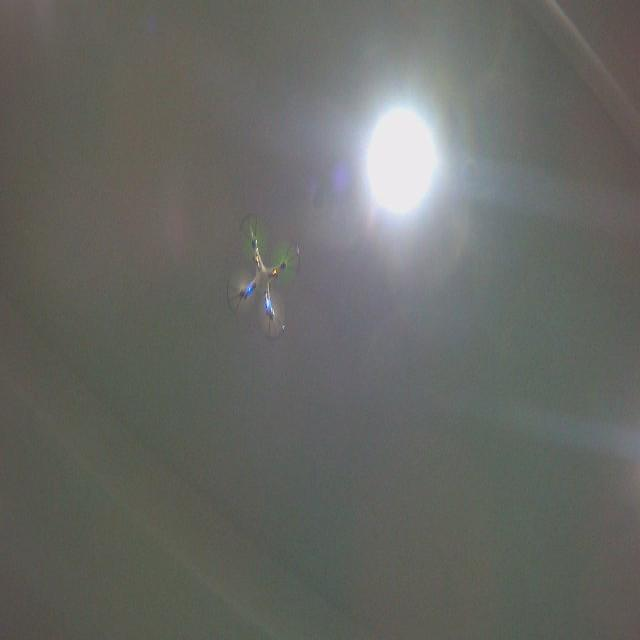drone: (224, 210, 303, 346)
